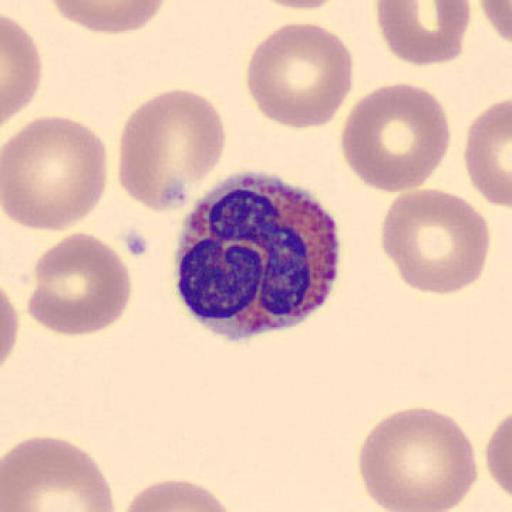RBC: (116, 87, 228, 215), (356, 405, 479, 512), (2, 114, 108, 234), (340, 81, 452, 194), (380, 186, 490, 296), (245, 20, 354, 130), (30, 230, 132, 338), (2, 434, 116, 512), (376, 0, 472, 68), (463, 96, 512, 208), (466, 410, 512, 512), (2, 12, 42, 126), (120, 476, 237, 512), (48, 0, 167, 35), (485, 409, 512, 505), (0, 285, 20, 371), (478, 0, 512, 44), (256, 0, 340, 11)
WBC: (170, 172, 345, 343)
